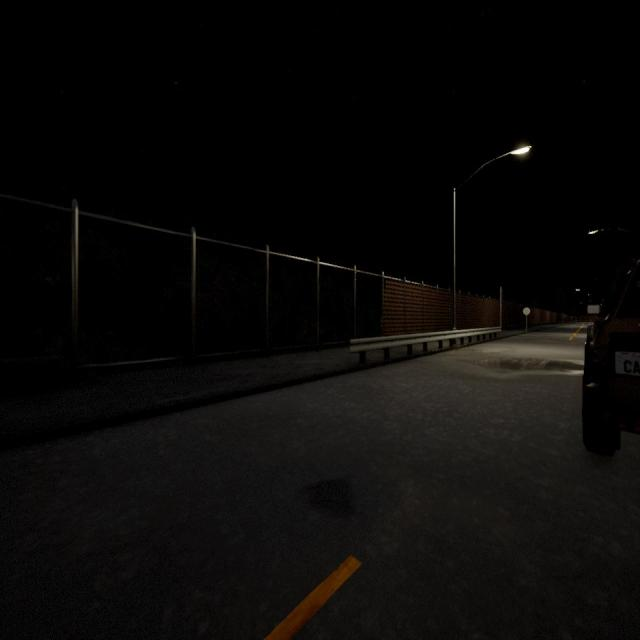Traffic_Signs: (523, 307, 530, 316)
Vehicle: (582, 260, 640, 456)
